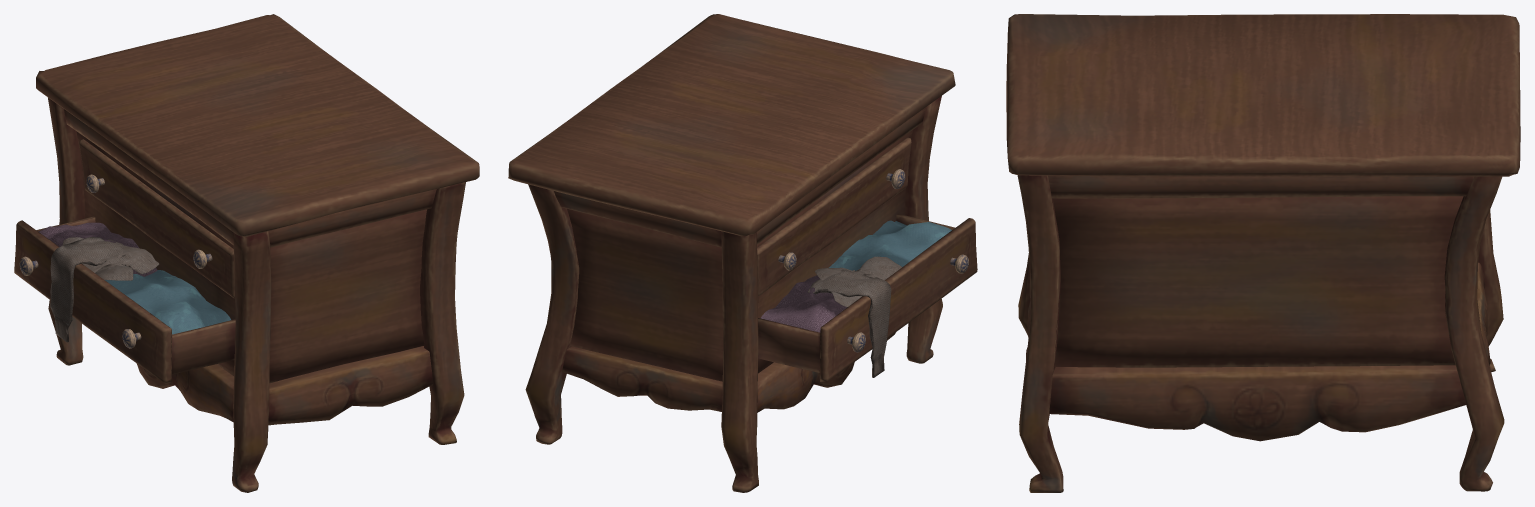
The model's file is f_Dresser.fbx.
3 renders of one model, left to right at view 1: azimuth 30°, elevation 25°; view 2: azimuth 150°, elevation 25°; view 3: azimuth 270°, elevation 25°, orthographic. The views are drawn at different scales.
Parts seen in each view (by area): view 1: f_Dresser; view 2: f_Dresser; view 3: f_Dresser.
Boxes of the visible parts, box(x1,y1,x2,y2) form: f_Dresser: box(14, 14, 479, 492); f_Dresser: box(508, 14, 977, 492); f_Dresser: box(1006, 14, 1520, 492).
Size of the model in its own units: 183 by 161 by 216.
